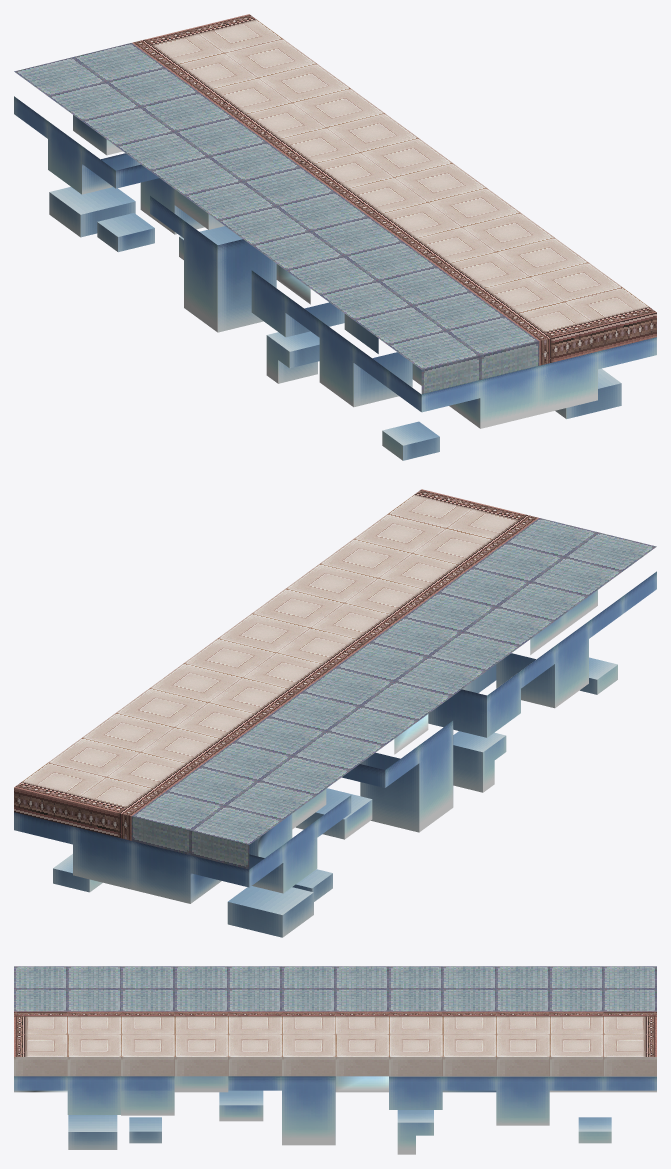
The model's file is a_ESDwall01g.glb.
3 views of the same model, one above another, from view 1: azimuth 30°, elevation 25°; view 2: azimuth 150°, elevation 25°; view 3: azimuth 270°, elevation 25° (orthographic). The views are drawn at different scales.
Visible parts, largest first — view 1: a_ESDwall01g; view 2: a_ESDwall01g; view 3: a_ESDwall01g.
Boxes of the visible parts, x1,y1,x2,y2 form: a_ESDwall01g: (14, 14, 656, 460); a_ESDwall01g: (14, 489, 656, 937); a_ESDwall01g: (14, 966, 656, 1154).
Size of the model in its own units: 2 by 1.04 by 6.
5 materials, 5 textured.
